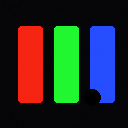2 circle: (84, 89, 100, 105)
